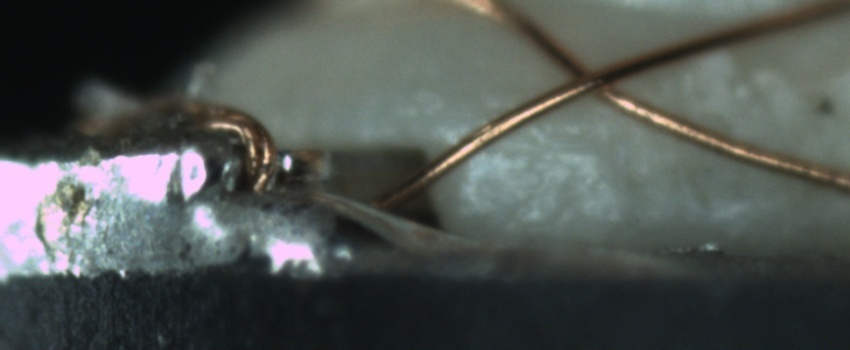CL: (546, 43, 644, 111)
DL: (463, 112, 598, 178)
TE: (190, 92, 287, 204)
